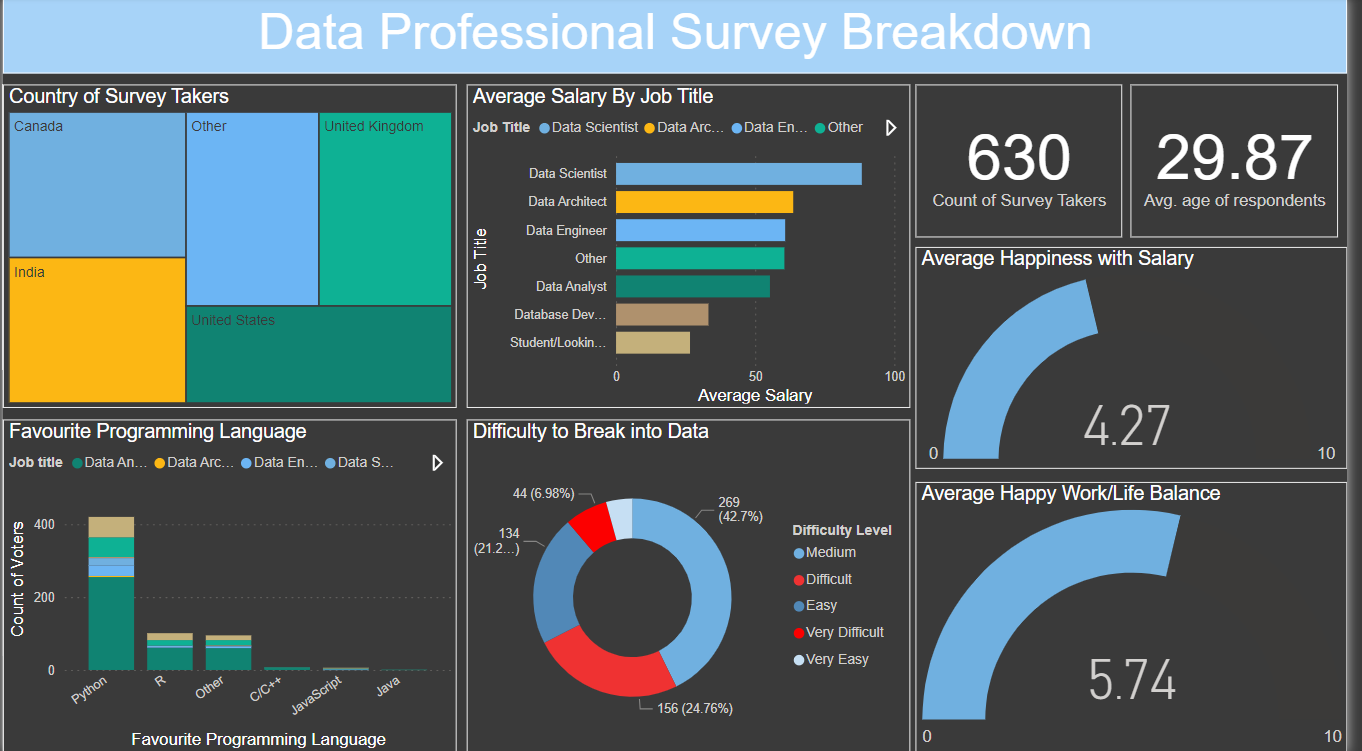

This screenshot's page, from the dashboard's own definition file:
{"tool":"powerbi","page":{"name":"Page 1","canvas":[1280,720],"ordinal":0},"visuals":[{"type":"textbox","box":[0,0,1279.8,72.6],"z":0},{"type":"card","fields":{"Values":["CountNonNull(Data Professional Survey.Unique ID)"]},"box":[869.1,83.3,196.4,145.2],"z":1000},{"type":"card","fields":{"Values":["Avg(Data Professional Survey.Q10 - Current Age)"]},"box":[1073.8,83.3,197.6,145.2],"z":2000},{"type":"barChart","title":"Average Salary By Job Title","fields":{"Category":["Data Professional Survey.Q1 - Which Title Best Fits your Current Role?.1"],"Y":["Avg(Data Professional Survey.Average Salary)"],"Series":["Data Professional Survey.Q1 - Which Title Best Fits your Current Role?.1"]},"box":[441.7,83.3,422.6,308.3],"z":3000},{"type":"columnChart","title":"Favourite Programming Language","fields":{"Category":["Data Professional Survey.Q5 - Favorite Programming Language.1"],"Y":["CountNonNull(Data Professional Survey.Unique ID)"],"Series":["Data Professional Survey.Q1 - Which Title Best Fits your Current Role?.1"]},"box":[0,403,431.9,317.3],"z":4000},{"type":"treemap","title":"Country of Survey Takers","fields":{"Group":["Data Professional Survey.Q11 - Which Country do you live in?.1"],"Values":["Count(Data Professional Survey.Q11 - Which Country do you live in?.1)"]},"box":[0,83.2,431.9,307.6],"z":5000},{"type":"gauge","title":"Average Happiness  with Salary","fields":{"Y":["Avg(Data Professional Survey.Q6 - How Happy are you in your Current Position with the following? (Salary))"],"MinValue":["Min(Data Professional Survey.Q6 - How Happy are you in your Current Position with the following? (Salary))"],"MaxValue":["Max(Data Professional Survey.Q6 - How Happy are you in your Current Position with the following? (Salary))"]},"box":[868.6,237.7,411.4,211.1],"z":6000},{"type":"gauge","title":"Average Happy Work/Life Balance","fields":{"Y":["Avg(Data Professional Survey.Q6 - How Happy are you in your Current Position with the following? (Work/Life Balance))"],"MinValue":["Min(Data Professional Survey.Q6 - How Happy are you in your Current Position with the following? (Work/Life Balance))"],"MaxValue":["Max(Data Professional Survey.Q6 - How Happy are you in your Current Position with the following? (Work/Life Balance))1"]},"box":[868.6,462.1,411.4,258.2],"z":7000},{"type":"donutChart","title":"Difficulty to Break into Data","fields":{"Category":["Data Professional Survey.Q7 - How difficult was it for you to break into Data?"],"Series":["Data Professional Survey.Q7 - How difficult was it for you to break into Data?"],"Y":["CountNonNull(Data Professional Survey.Q7 - How difficult was it for you to break into Data?)"]},"box":[441.6,403,422.3,317.3],"z":8000}]}

Visuals, with their boxes in screenshot pixels (x1, y1, x2, y2), scaled from the page's 1280x720 canvas onto the 1362x751 screenshot:
textbox: box(0, 0, 1361, 76)
card - CountNonNull(Data Professional Survey.Unique ID): box(925, 87, 1134, 238)
card - Avg(Data Professional Survey.Q10 - Current Age): box(1143, 87, 1353, 238)
"Average Salary By Job Title" barChart: box(470, 87, 920, 408)
"Favourite Programming Language" columnChart: box(0, 420, 460, 750)
"Country of Survey Takers" treemap: box(0, 87, 460, 408)
"Average Happiness  with Salary" gauge: box(924, 248, 1361, 468)
"Average Happy Work/Life Balance" gauge: box(924, 482, 1361, 750)
"Difficulty to Break into Data" donutChart: box(470, 420, 919, 750)
